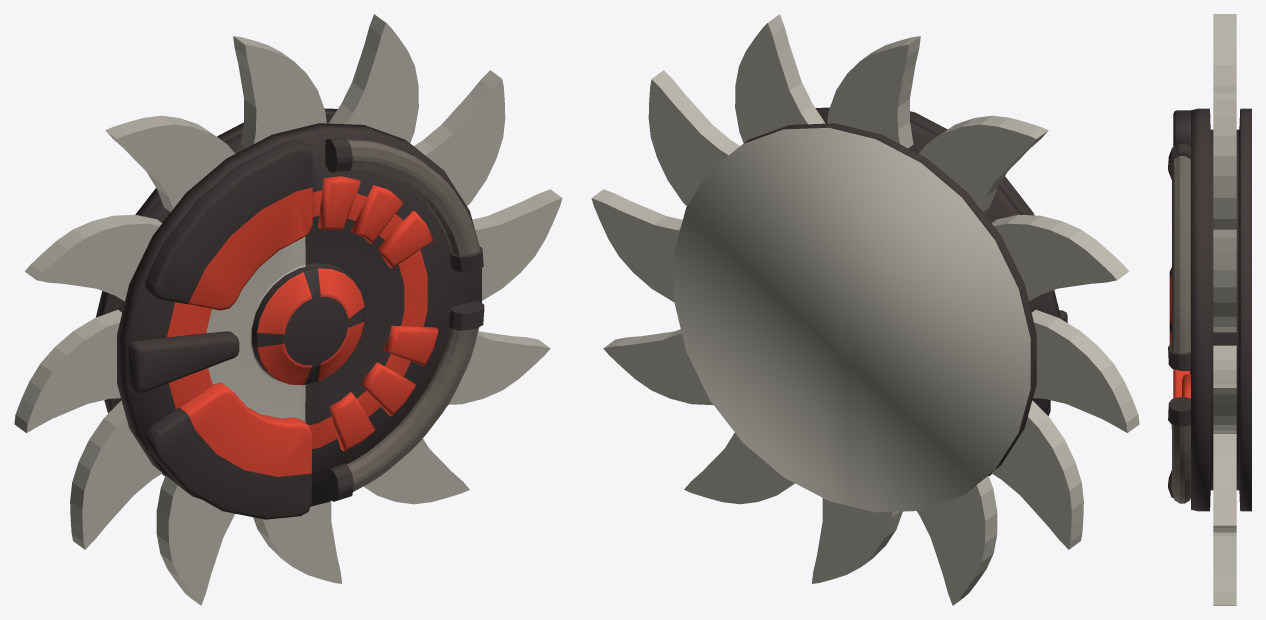
Rendered from GiantExcavator.fbx.
3 views of the same model, side by side, from view 1: azimuth 30°, elevation 25°; view 2: azimuth 150°, elevation 25°; view 3: azimuth 270°, elevation 25° (orthographic). The views are drawn at different scales.
Parts seen in each view (by area): view 1: Cylinder.001, Cylinder.012; view 2: Cylinder.001, Cylinder.012; view 3: Cylinder.001, Cylinder.012.
Part boxes in pixels (x1,y1,x2,y2): Cylinder.001: (96, 108, 484, 519); Cylinder.012: (14, 14, 562, 605); Cylinder.001: (674, 107, 1067, 512); Cylinder.012: (591, 14, 1139, 605); Cylinder.001: (1168, 108, 1251, 511); Cylinder.012: (1213, 14, 1236, 605).
Bounding box in the file's own units: 0.6704 × 0.6724 × 0.0935.
1 material, 1 textured.
